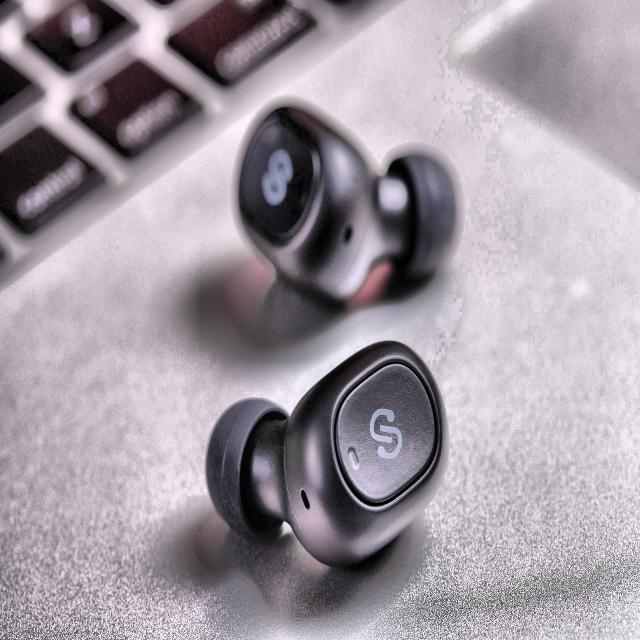Bluetooth headphones: (207, 342, 448, 564), (238, 104, 458, 302)
